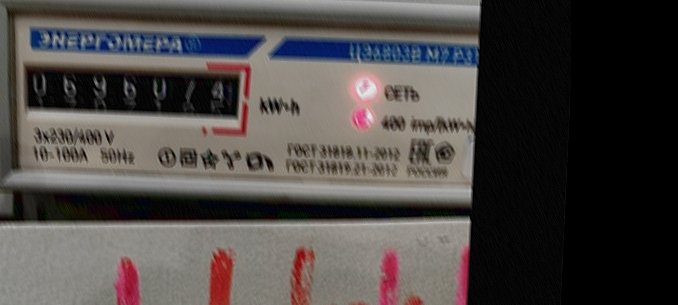0: (27, 69, 47, 94), (149, 73, 166, 99)
4: (207, 75, 224, 98)
5: (207, 101, 224, 116)
6: (120, 71, 138, 98), (59, 71, 77, 95)
7: (179, 75, 197, 101)
9: (89, 71, 106, 98)
screen: (10, 49, 253, 129)
